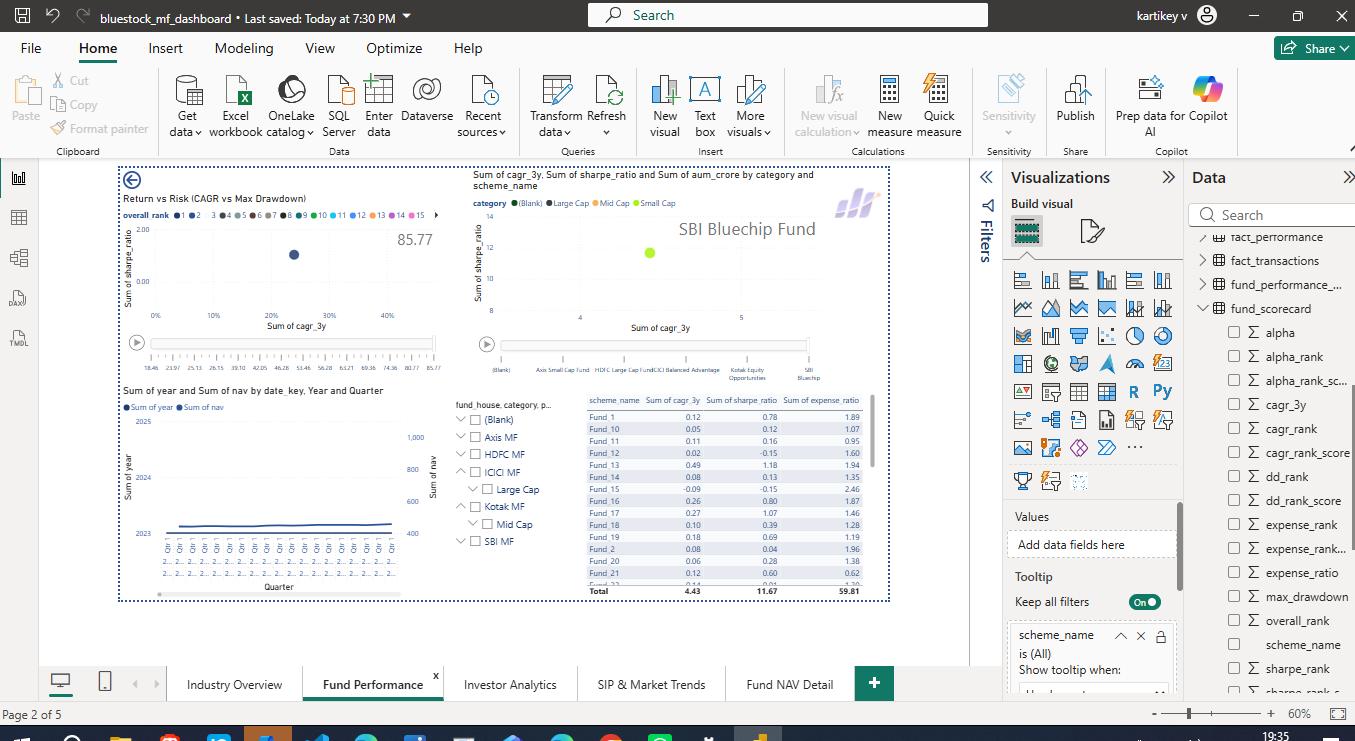

This screenshot's page, from the dashboard's own definition file:
{"tool":"powerbi","page":{"name":"Fund Performance","canvas":[1280,720],"ordinal":1},"visuals":[{"type":"scatterChart","fields":{"Series":["dim_fund.category"],"Size":["Sum(fact_performance.aum_crore)"],"Y":["Sum(fund_scorecard.sharpe_ratio)"],"X":["Sum(fund_scorecard.cagr_3y)"],"Play":["dim_fund.scheme_name"]},"box":[583.3,0,595,360],"z":0},{"type":"scatterChart","title":"Return vs Risk (CAGR vs Max Drawdown)","fields":{"X":["Sum(fund_scorecard.cagr_3y)"],"Series":["fund_scorecard.overall_rank"],"Size":["Sum(fund_scorecard.max_drawdown)"],"Play":["fund_scorecard.total_score"],"Y":["Sum(fund_scorecard.sharpe_ratio)"]},"box":[0,40,546.7,316.7],"z":1},{"type":"actionButton","box":[0,0,100,40],"z":2},{"type":"lineChart","fields":{"Category":["dim_date.date_key","dim_date.full_date.Variation.Date Hierarchy.Year","dim_date.full_date.Variation.Date Hierarchy.Quarter","dim_date.full_date.Variation.Date Hierarchy.Month","dim_date.full_date.Variation.Date Hierarchy.Day"],"Y":["Sum(dim_date.year)"],"Y2":["Sum(fact_nav.nav)"]},"box":[0,360,533.3,360],"z":3},{"type":"slicer","fields":{"Values":["dim_fund.fund_house","dim_fund.category","dim_fund.plan"]},"box":[546.7,381.7,193.3,338.3],"z":4},{"type":"image","box":[1178.3,0,101.7,116.7],"z":6},{"type":"tableEx","fields":{"Values":["fund_scorecard.scheme_name","Sum(fund_scorecard.cagr_3y)","Sum(fund_scorecard.sharpe_ratio)","Sum(fund_scorecard.expense_ratio)"]},"box":[788.3,360,491.7,348.3],"z":7}]}

Visuals, with their boxes on the page's 1280x720 design canvas (x1, y1, x2, y2). These are canvas units, not pixel positions in the 1355x741 screenshot, which may show the page scaled, cropped or inside an application window:
scatterChart - dim_fund.category x Sum(fact_performance.aum_crore): [583,0,1178,360]
"Return vs Risk (CAGR vs Max Drawdown)" scatterChart: [0,40,547,357]
actionButton: [0,0,100,40]
lineChart - dim_date.date_key x dim_date.full_date.Variation.Date Hierarchy.Year: [0,360,533,720]
slicer - dim_fund.fund_house x dim_fund.category: [547,382,740,720]
image: [1178,0,1280,117]
tableEx - fund_scorecard.scheme_name x Sum(fund_scorecard.cagr_3y): [788,360,1280,708]
